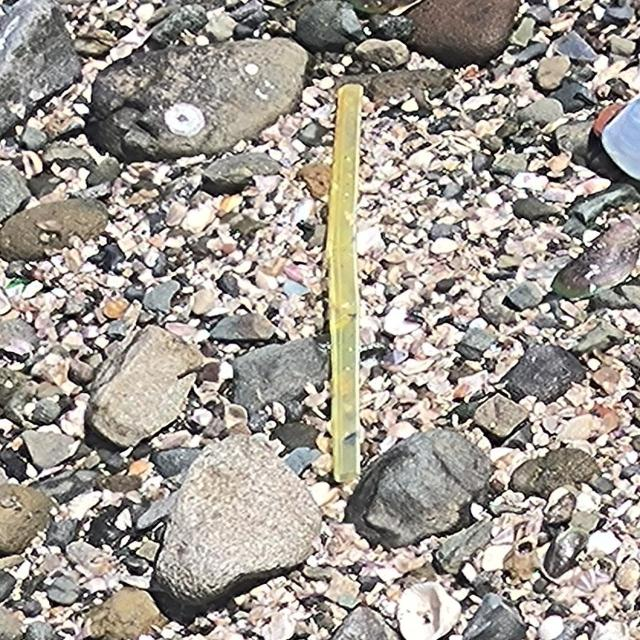plastic_waste: (329, 83, 368, 493)
